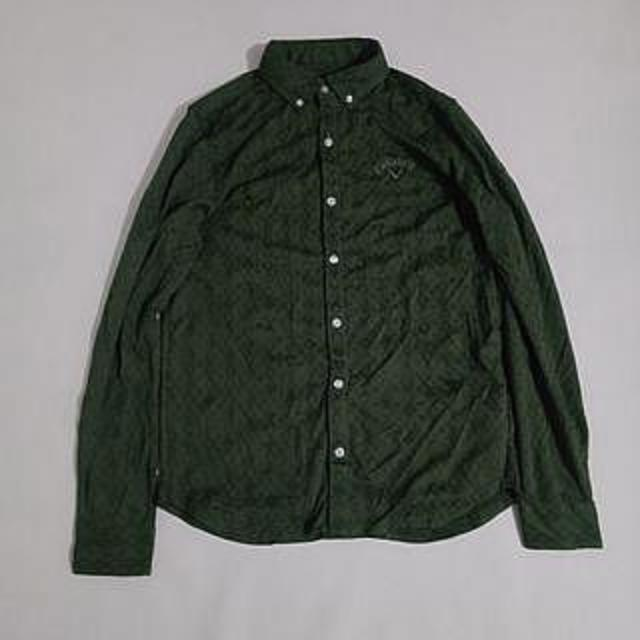SHIRT: (51, 26, 636, 585)
